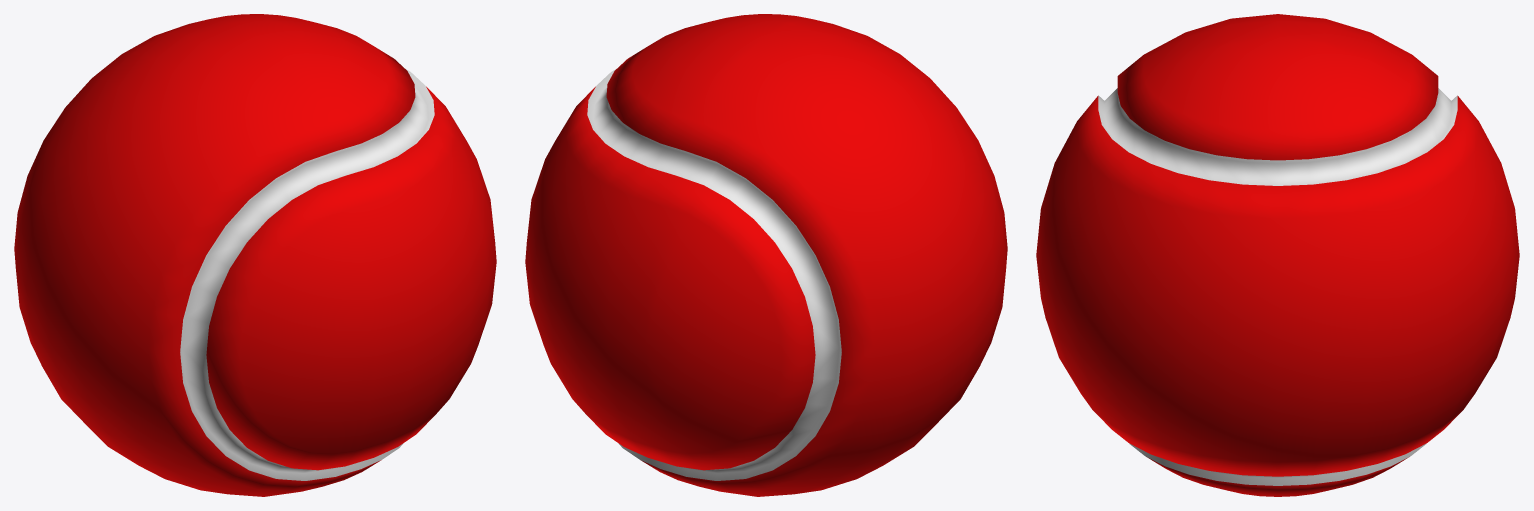
Rendered from ball_red.dae.
The picture shows the model from 3 angles, left to right: view 1: azimuth 30°, elevation 25°; view 2: azimuth 150°, elevation 25°; view 3: azimuth 270°, elevation 25°; orthographic projection.
Parts seen in each view (by area): view 1: Sphere.001; view 2: Sphere.001; view 3: Sphere.001.
Boxes of the visible parts, x1,y1,x2,y2 form: Sphere.001: (14,14,496,496); Sphere.001: (525,14,1007,496); Sphere.001: (1036,14,1519,496).
Bounding box in the file's own units: 0.0686 × 0.0686 × 0.0686.
